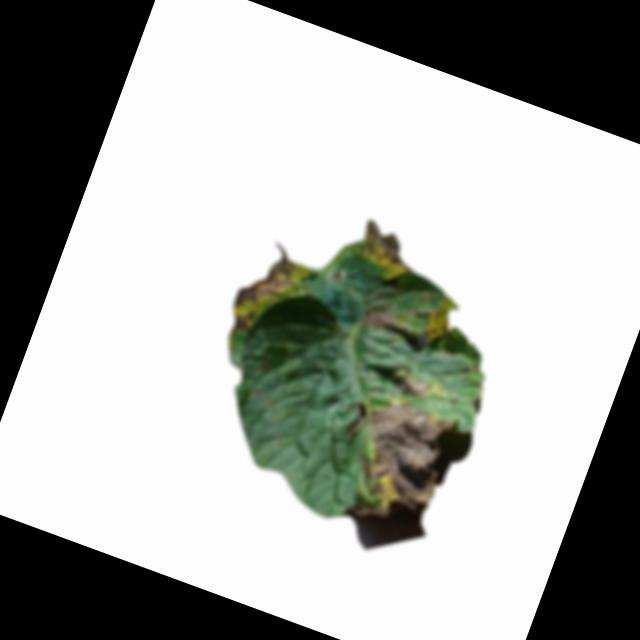Early_blight: (331, 390, 461, 539), (224, 246, 321, 351), (350, 216, 417, 279), (361, 300, 401, 340), (421, 301, 456, 344), (392, 371, 434, 402)
